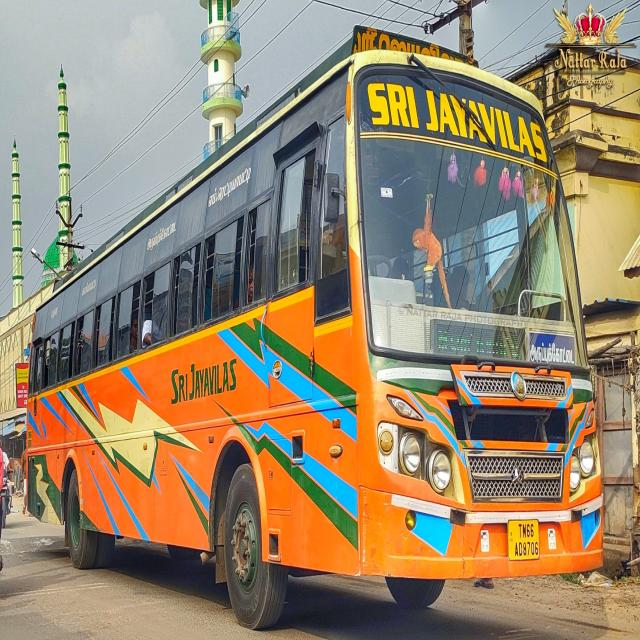Plate: (509, 518, 540, 560)
bus: (25, 50, 602, 627)
